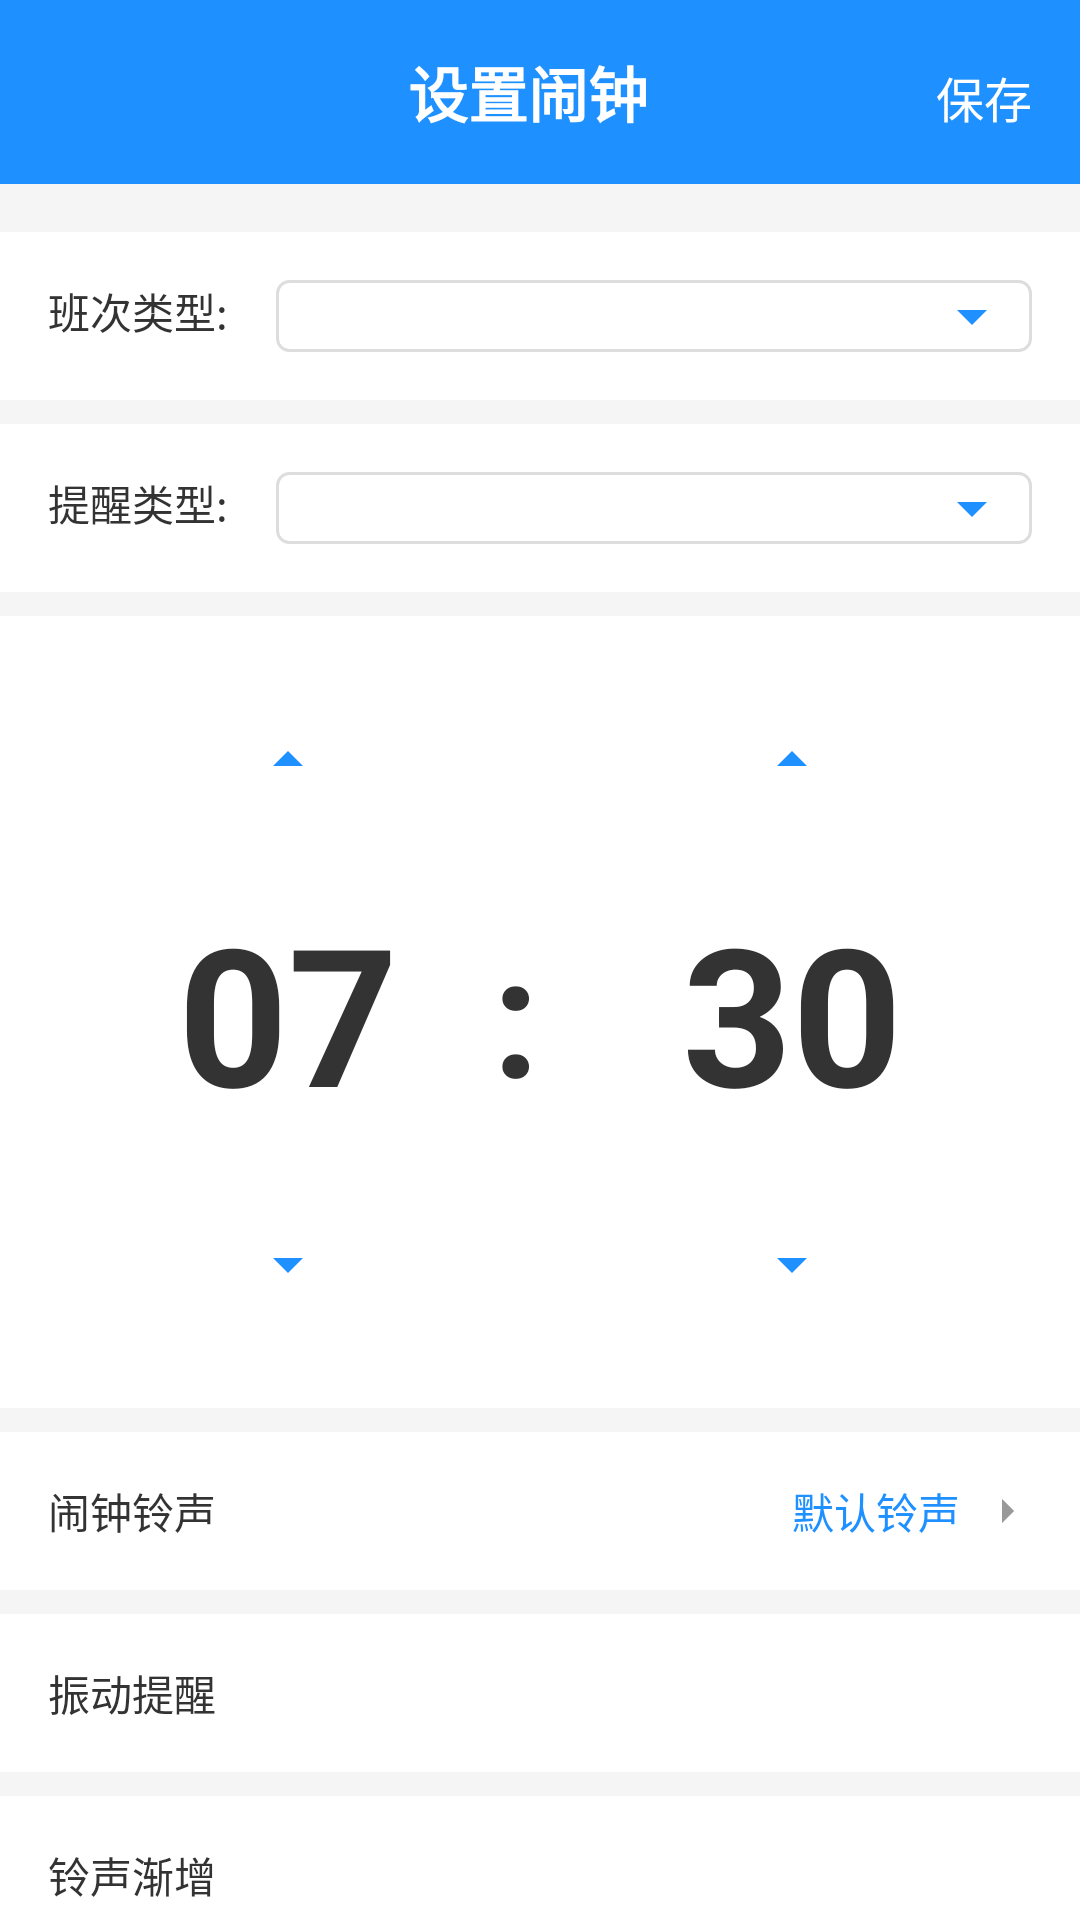

Icons on this 1080px x 1920px Android screen, each with the point to tap as point (x, y):
arrow down: point (288, 1265), point (792, 1265)
arrow right: point (1008, 1511)
arrow up: point (288, 758), point (792, 758)
